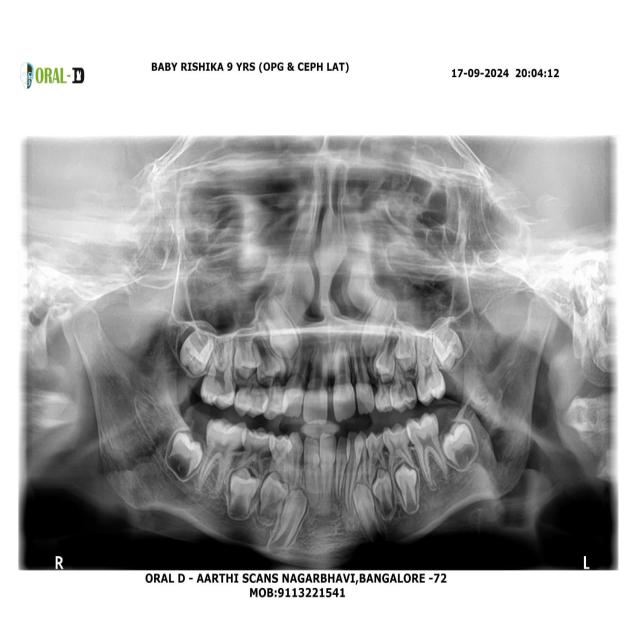Premolars: (365, 430, 388, 485)
